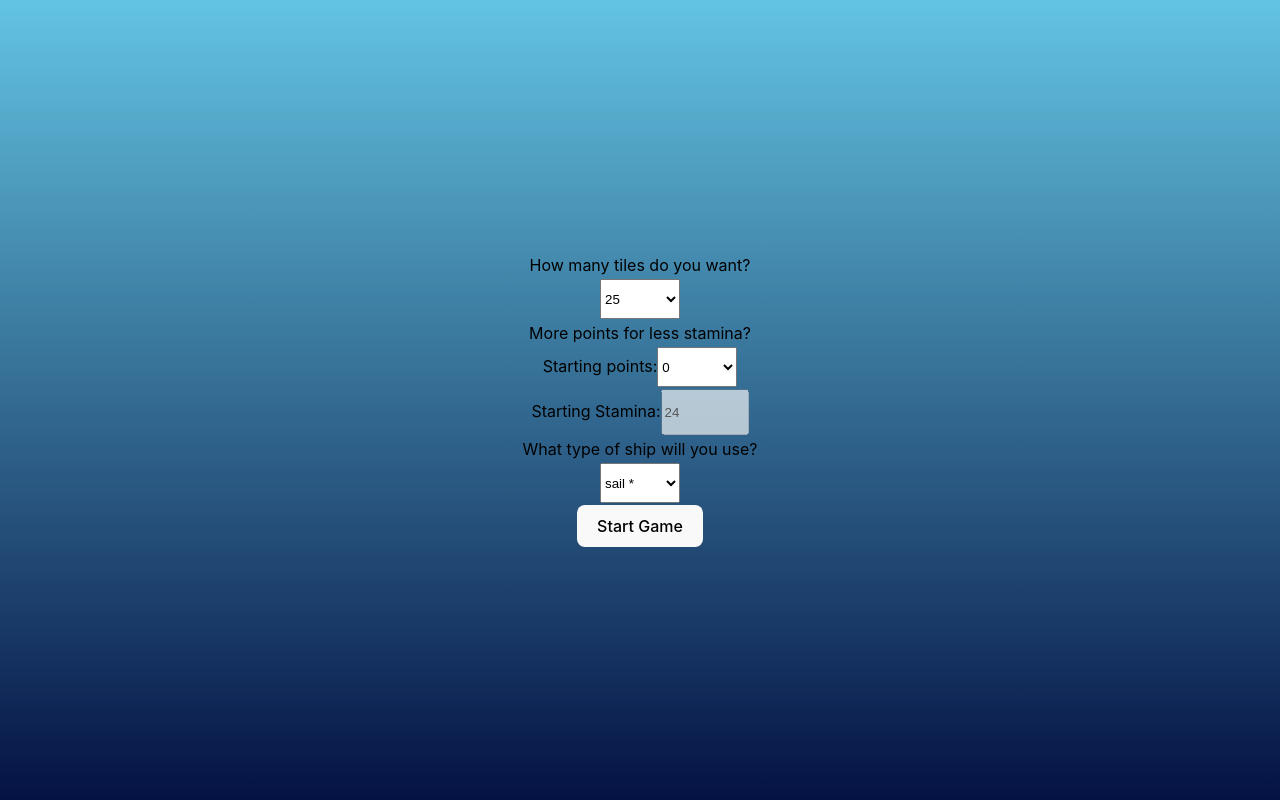
Test: NewGameSetup component › sets stamina to be inverse to points (more points -> less stamina)
Expected: the field showing "24" is shown, [661,389,749,435]
Select "4" in the dropdown showing "0" at {"x": 697, "y": 367}, box [657,347,737,387]
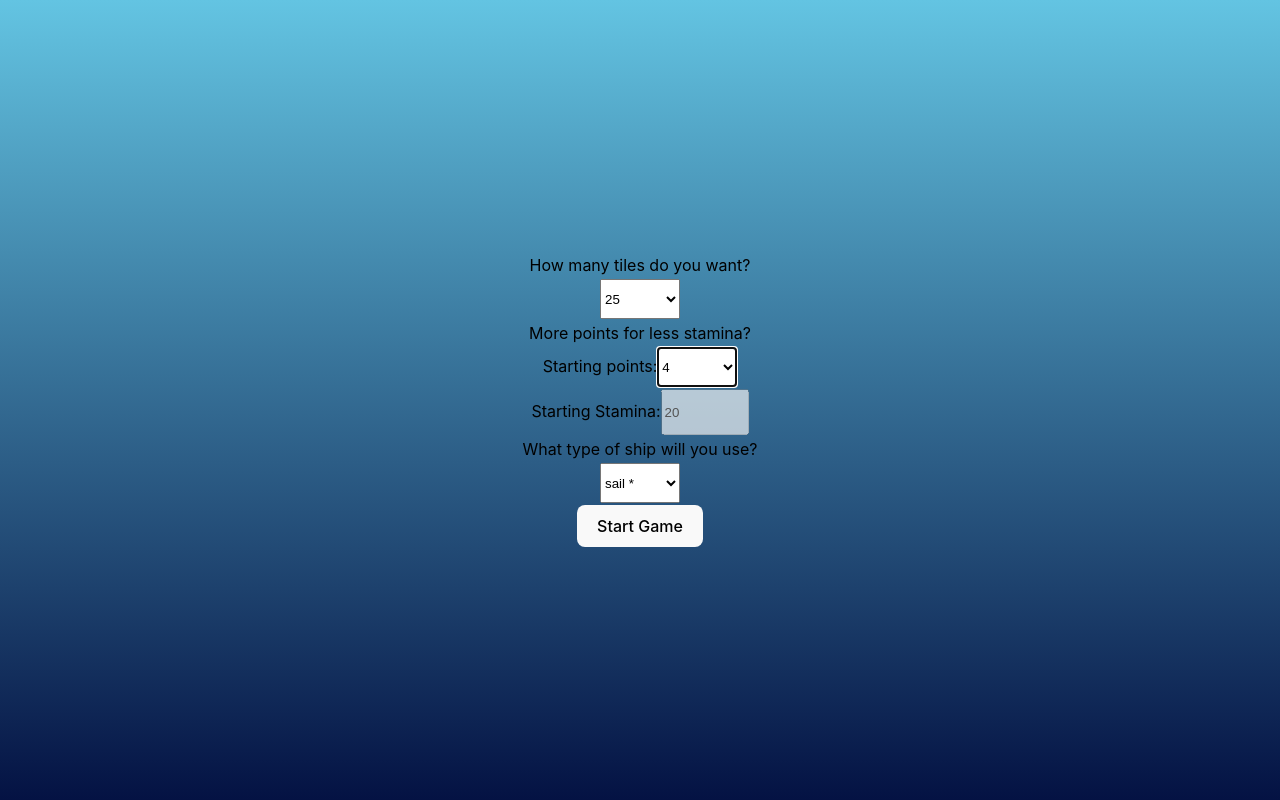
Result: the field showing "20" is shown at [661,389,749,435]
